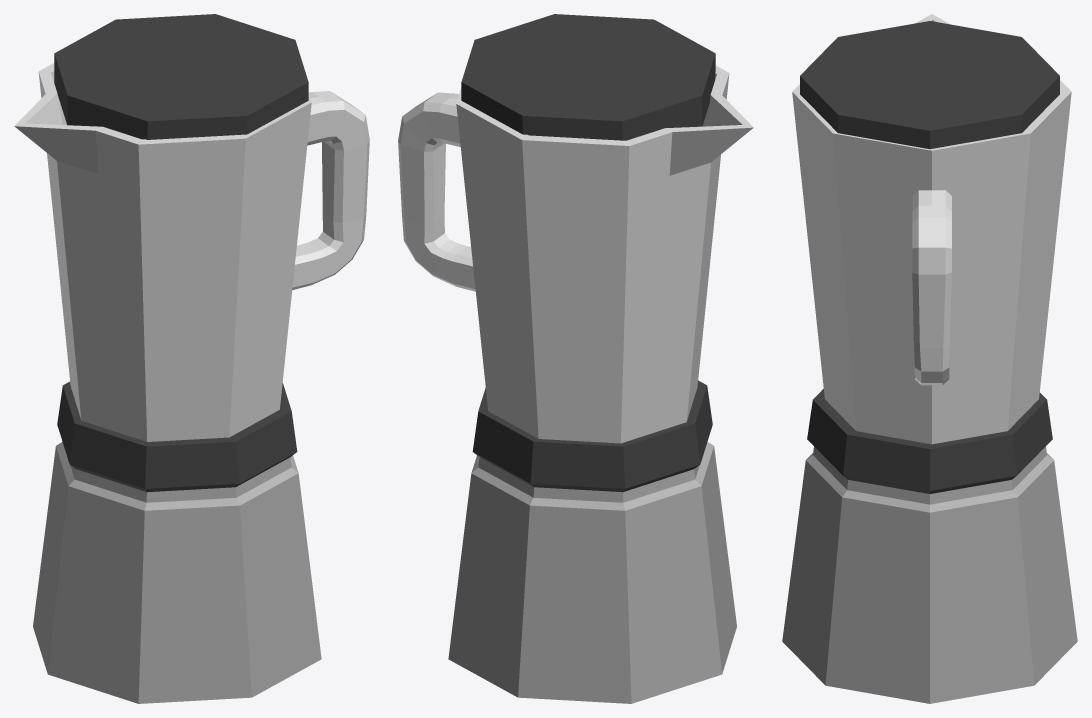
The model's file is Mixer.fbx.
3 renders of one model, left to right at view 1: azimuth 30°, elevation 25°; view 2: azimuth 150°, elevation 25°; view 3: azimuth 270°, elevation 25°, orthographic.
Parts seen in each view (by area): view 1: Mixer_Glass, Mixer, Mixer_Lid; view 2: Mixer_Glass, Mixer, Mixer_Lid; view 3: Mixer_Glass, Mixer, Mixer_Lid.
Part boxes in pixels (left/top/right/bottom): Mixer_Glass: left=14, top=63, right=369, bottom=441; Mixer: left=33, top=381, right=321, bottom=703; Mixer_Lid: left=54, top=14, right=308, bottom=139; Mixer_Glass: left=398, top=65, right=753, bottom=443; Mixer: left=448, top=380, right=736, bottom=703; Mixer_Lid: left=461, top=14, right=715, bottom=140; Mixer_Glass: left=792, top=14, right=1071, bottom=444; Mixer: left=782, top=389, right=1077, bottom=703; Mixer_Lid: left=800, top=21, right=1059, bottom=149.
Size of the model in its own units: 7.91 by 12.44 by 5.87.
